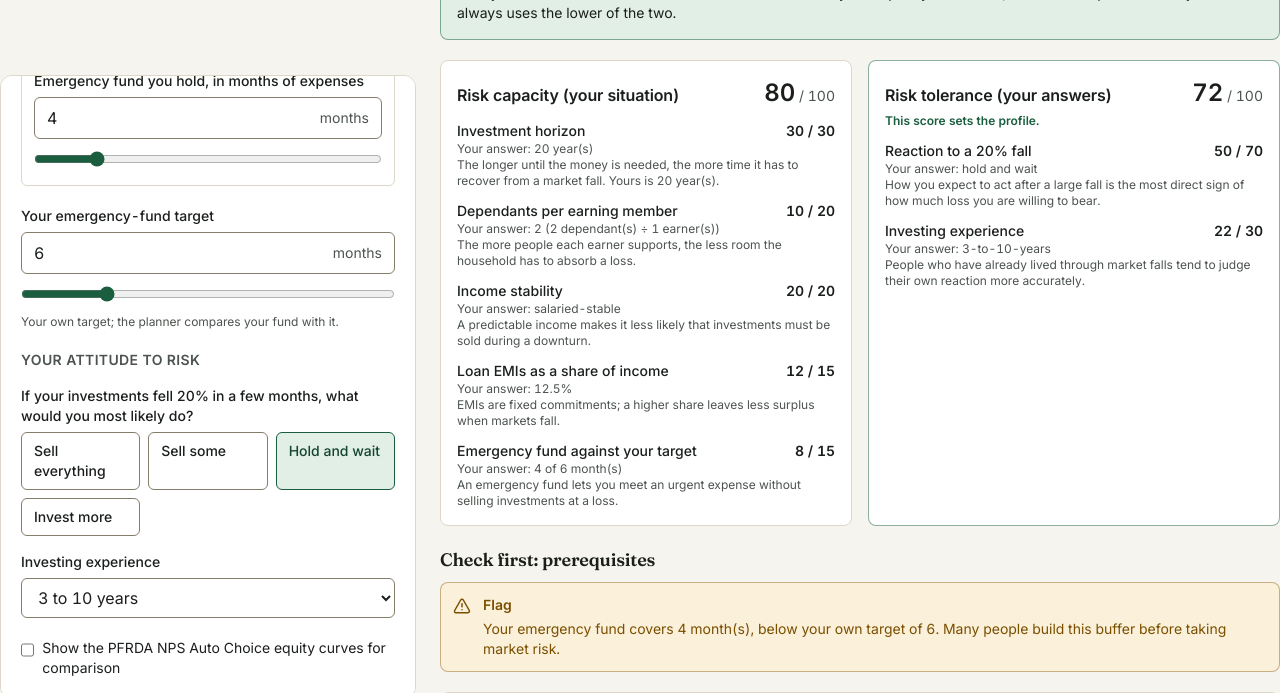
it: Life-stage & Risk Planner › PFRDA comparison carries its source link and the extension label
(page scrolled)
Click the checkbox labelled "Show the PFRDA NPS Auto Choice equity curves for comparison" at coordinates (28, 650), box [21,642,34,658]
(page scrolled)
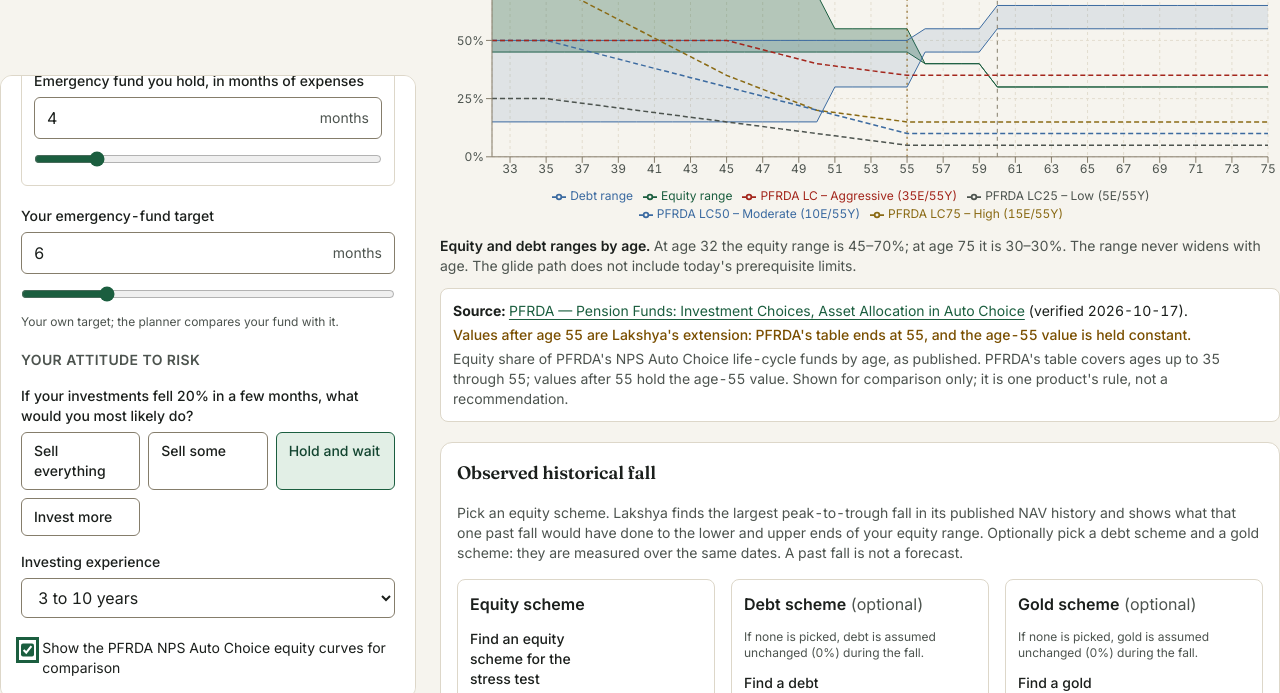
Expected: the element with test id "pfrda-source" shows "Values after age 55 are Lakshya's extension", [440,288,1279,422]
